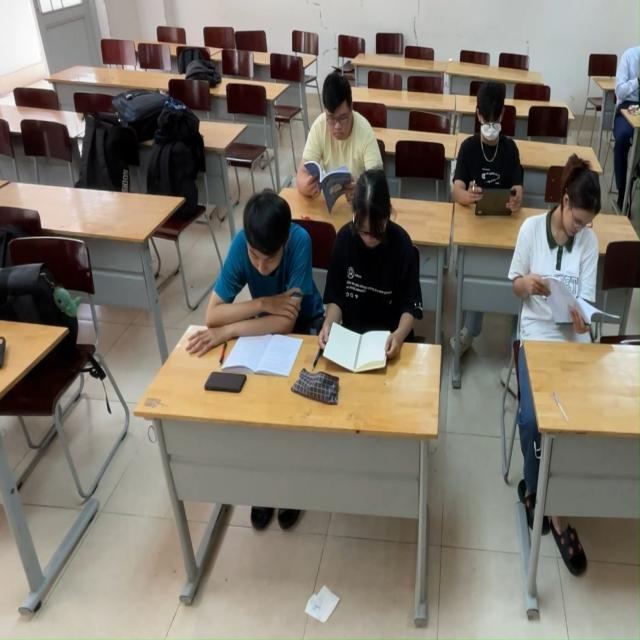read: (514, 157, 630, 387), (204, 182, 326, 387), (312, 180, 423, 387), (302, 81, 376, 218), (460, 72, 527, 223)
